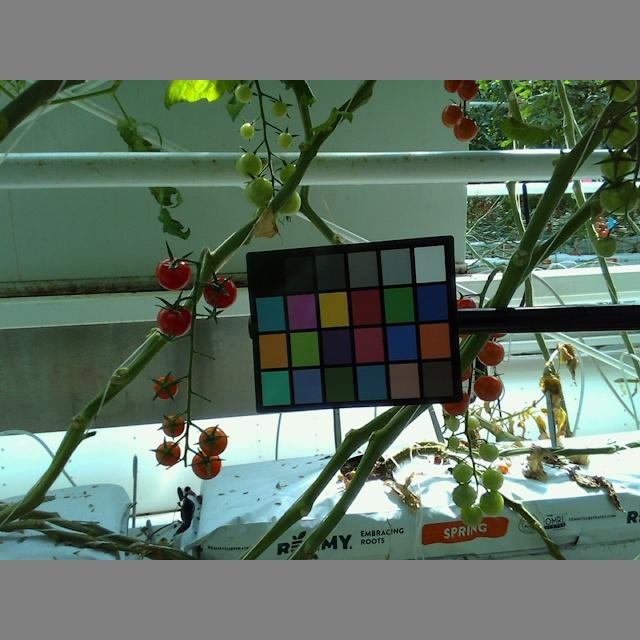green: (599, 180, 639, 216), (602, 113, 636, 147), (601, 148, 632, 178), (245, 178, 274, 205), (236, 151, 262, 178), (477, 489, 505, 512), (454, 480, 477, 506), (277, 191, 303, 214), (277, 163, 303, 185), (459, 500, 480, 527), (232, 81, 254, 104), (453, 460, 473, 481), (595, 237, 615, 257), (480, 469, 500, 488), (236, 122, 256, 139), (481, 444, 502, 460), (274, 131, 292, 149), (268, 99, 287, 116)
pink: (197, 427, 227, 457), (473, 339, 504, 366), (189, 454, 221, 479), (151, 372, 178, 401), (473, 375, 502, 402), (451, 116, 477, 141), (154, 443, 182, 466), (439, 105, 463, 129), (161, 416, 186, 437), (456, 81, 482, 101)
red: (200, 277, 238, 309), (155, 259, 193, 290), (156, 306, 191, 337)
